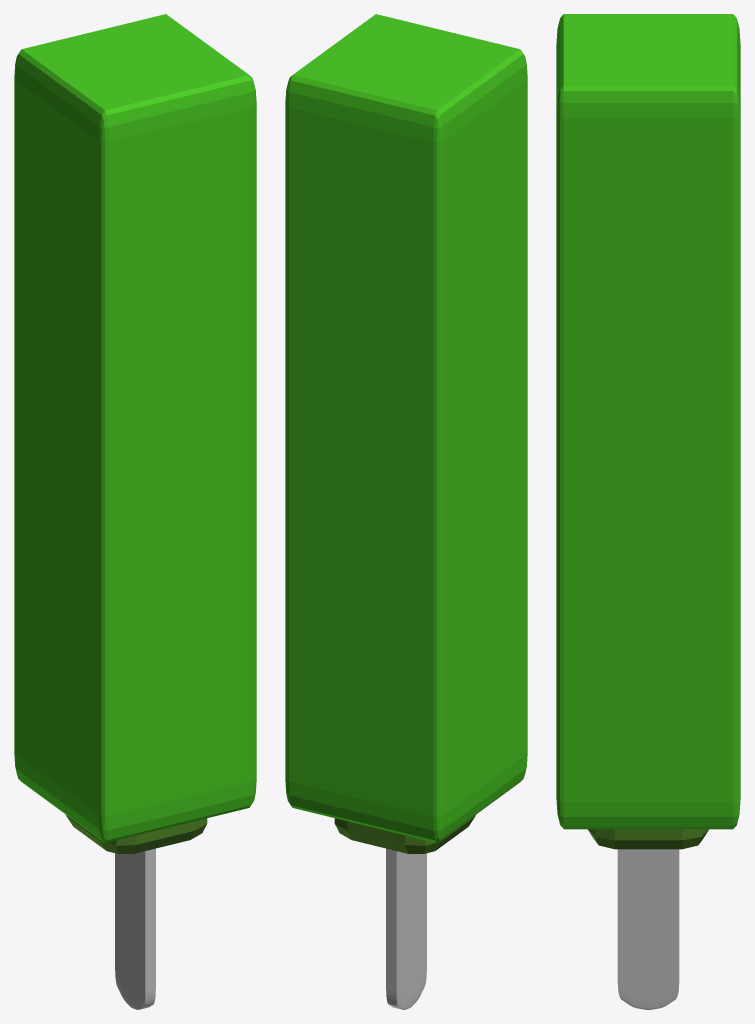
Rendered from merona.obj.
3 views of the same model, side by side, from view 1: azimuth 30°, elevation 25°; view 2: azimuth 150°, elevation 25°; view 3: azimuth 270°, elevation 25° (orthographic).
Parts seen in each view (by area): view 1: Merona.001_Cube.008, Cube_Cube.007, Merona_Cube; view 2: Merona.001_Cube.008, Cube_Cube.007, Merona_Cube; view 3: Merona.001_Cube.008, Cube_Cube.007, Merona_Cube.
Boxes of the visible parts, bbox=[...] form: Merona.001_Cube.008: bbox=[14, 14, 256, 842]; Cube_Cube.007: bbox=[115, 848, 155, 1009]; Merona_Cube: bbox=[66, 815, 207, 853]; Merona.001_Cube.008: bbox=[285, 14, 527, 842]; Cube_Cube.007: bbox=[386, 848, 426, 1009]; Merona_Cube: bbox=[334, 815, 475, 853]; Merona.001_Cube.008: bbox=[556, 14, 740, 829]; Cube_Cube.007: bbox=[617, 849, 679, 1009]; Merona_Cube: bbox=[588, 829, 708, 849].
Size of the model in its own units: 0.668 by 3.84 by 0.668.
